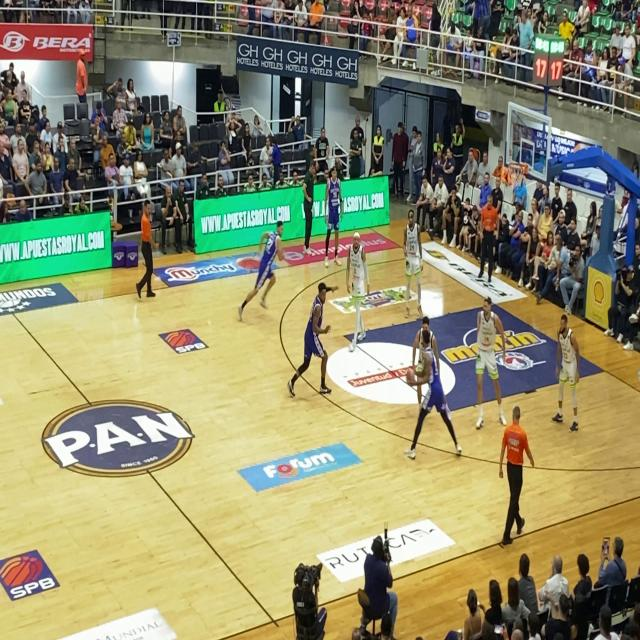Ball: (402, 363, 419, 388)
referee: (487, 398, 537, 562), (126, 169, 164, 323), (467, 190, 505, 292)
team1: (467, 276, 508, 439), (546, 298, 585, 433), (341, 228, 376, 358), (396, 200, 427, 326)
team2: (399, 325, 468, 479), (286, 261, 340, 410), (237, 214, 292, 331), (318, 148, 348, 278)
ubasket: (508, 159, 526, 193)
